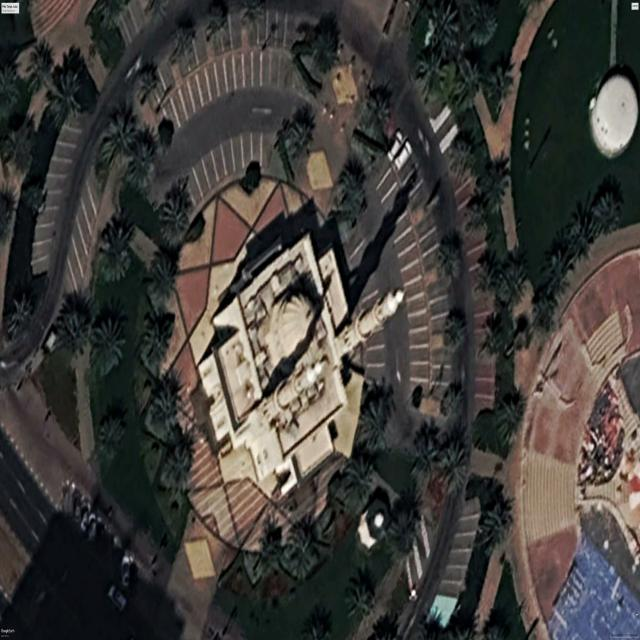mosque: (199, 235, 404, 492)
